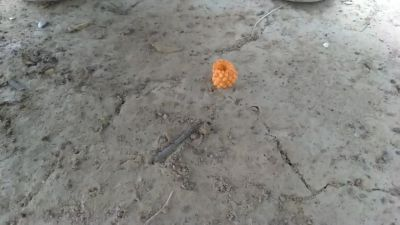eggs: (212, 51, 237, 88)
